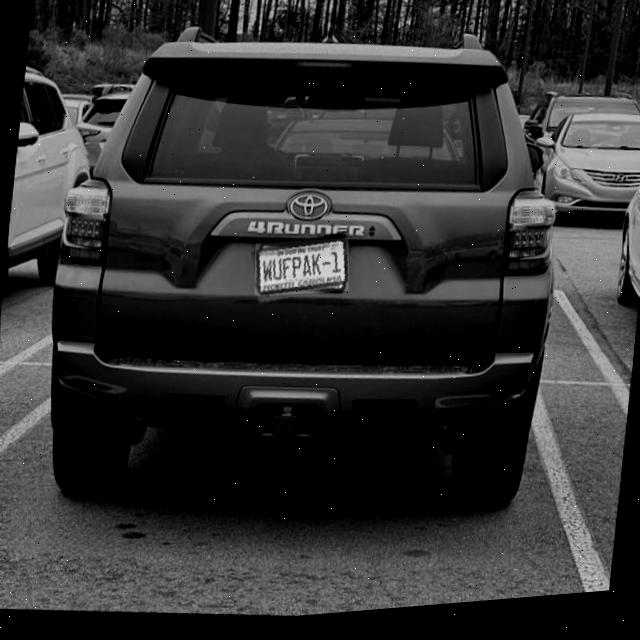LicensePlate: (255, 244, 348, 300)
